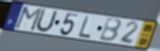2: (119, 21, 140, 46)
5: (60, 12, 80, 36)
B: (98, 18, 123, 43)
L: (77, 14, 92, 39)
M: (13, 6, 44, 33)
U: (33, 7, 59, 33)
